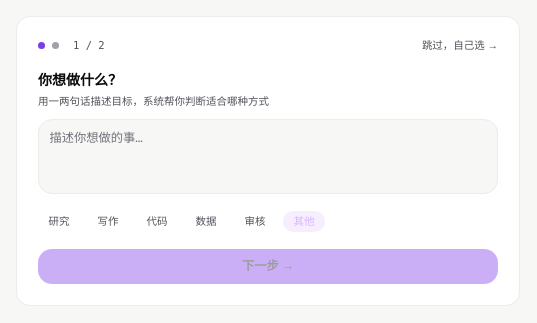
it: GoalClarityWizard › Step 1 › next button is enabled after typing goal
The width and height of the screenshot is (537, 323).
In the text box with test id "wizard-goal-input": (268, 156) x1=38 y1=118 x2=498 y2=194, type "我想写一篇文章"
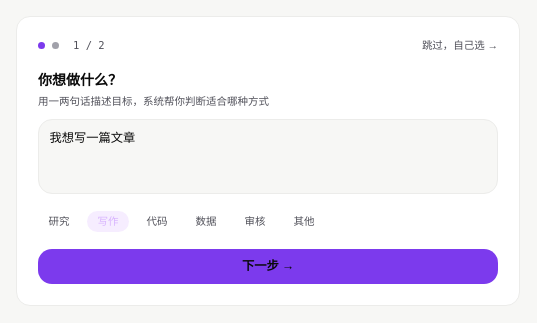
Expected: the button with test id "wizard-next-btn" is enabled, x1=38 y1=249 x2=498 y2=284
